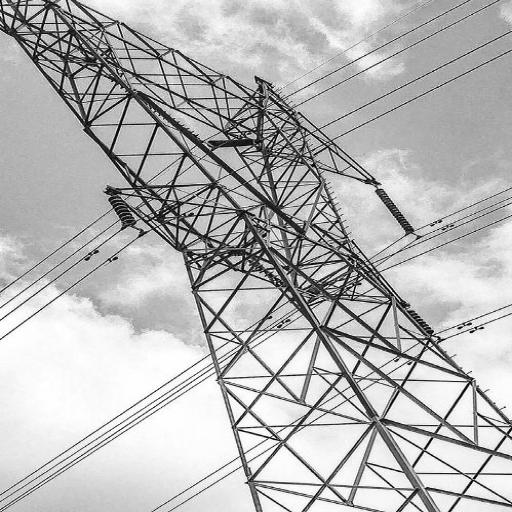wt_5: (1, 0, 512, 511)
